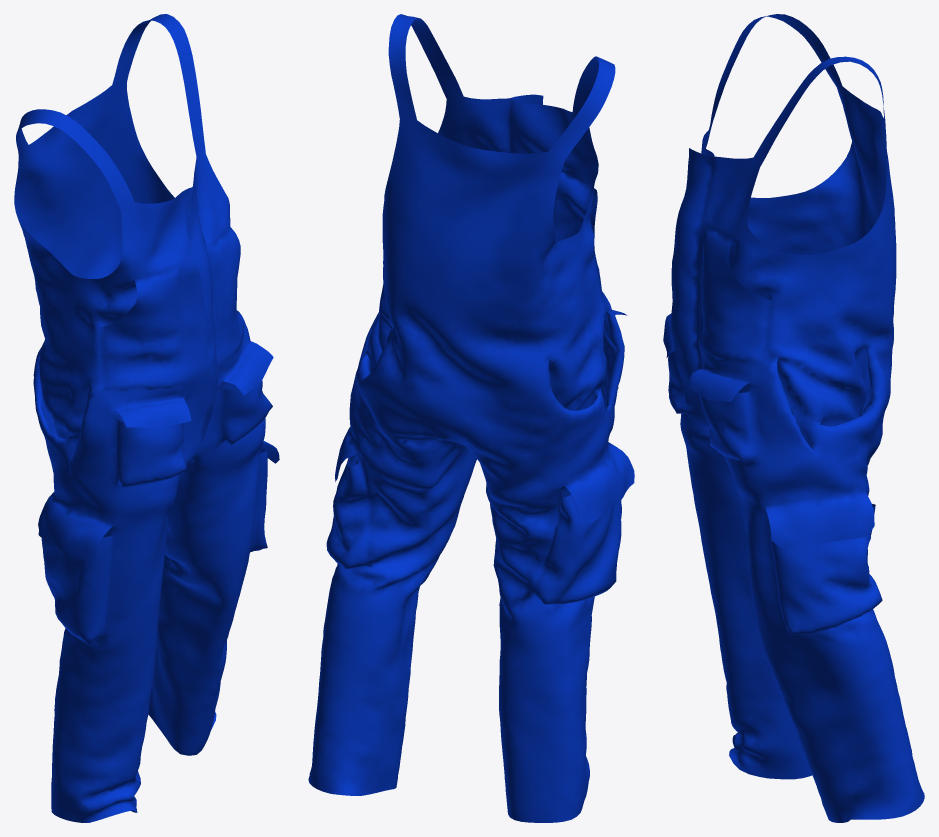
The model's file is ori_MV2_Work_Bib_Overalls.obj.
3 views of the same model, side by side, from view 1: azimuth 30°, elevation 25°; view 2: azimuth 150°, elevation 25°; view 3: azimuth 270°, elevation 25° (orthographic). The views are drawn at different scales.
Parts seen in each view (by area): view 1: ori_MV2_Work_Bib_Overalls; view 2: ori_MV2_Work_Bib_Overalls; view 3: ori_MV2_Work_Bib_Overalls.
Part boxes in pixels (x1=…): ori_MV2_Work_Bib_Overalls: x1=14, y1=14, x2=279, y2=822; ori_MV2_Work_Bib_Overalls: x1=308, y1=14, x2=634, y2=822; ori_MV2_Work_Bib_Overalls: x1=663, y1=14, x2=924, y2=822.
Size of the model in its own units: 0.4953 by 1.42 by 0.4449.
